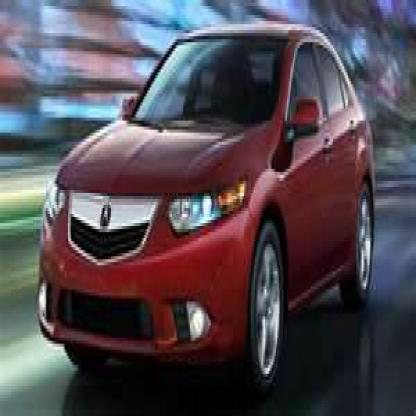Vehicle: (38, 27, 374, 386)
